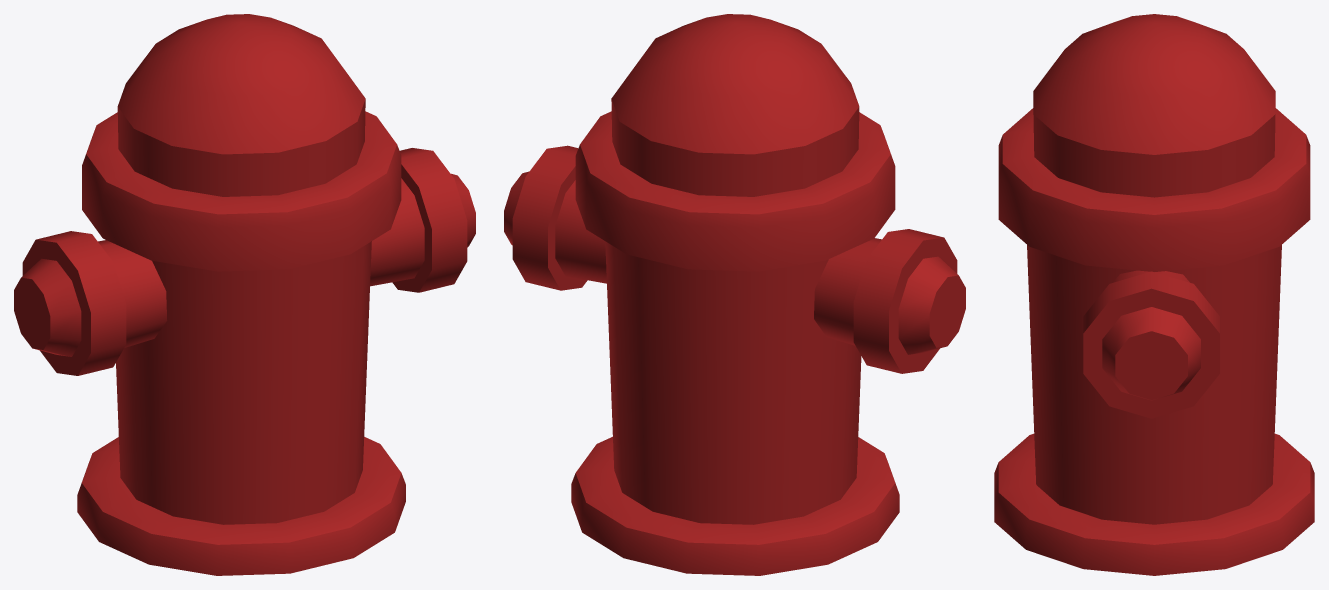
File: SM_firehydrant.fbx
The picture shows the model from 3 angles, left to right: view 1: azimuth 30°, elevation 25°; view 2: azimuth 150°, elevation 25°; view 3: azimuth 270°, elevation 25°; orthographic projection.
Parts seen in each view (by area): view 1: Cylinder51223; view 2: Cylinder51223; view 3: Cylinder51223.
Part boxes in pixels (x1,y1,x2,y2): Cylinder51223: (14,14,475,575); Cylinder51223: (504,14,965,575); Cylinder51223: (994,14,1314,575).
Bounding box in the file's own units: 41.02 × 44.62 × 26.81.
